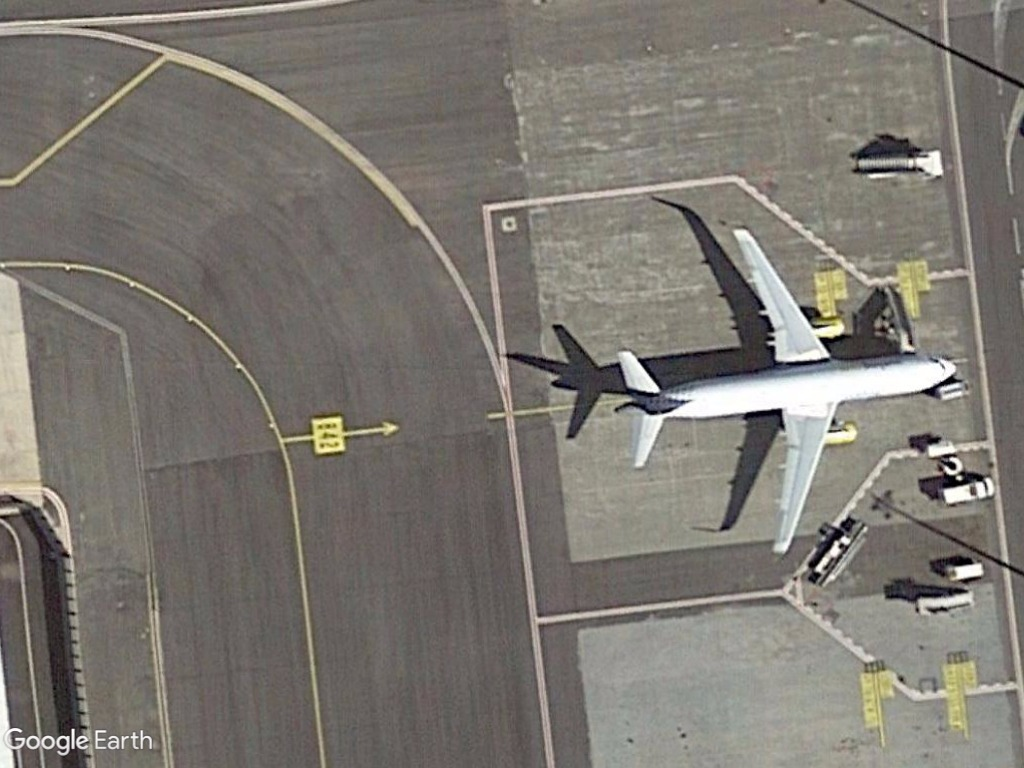airliner: (599, 220, 961, 564)
stairtruck: (850, 141, 948, 186)
truck: (932, 476, 998, 507)
